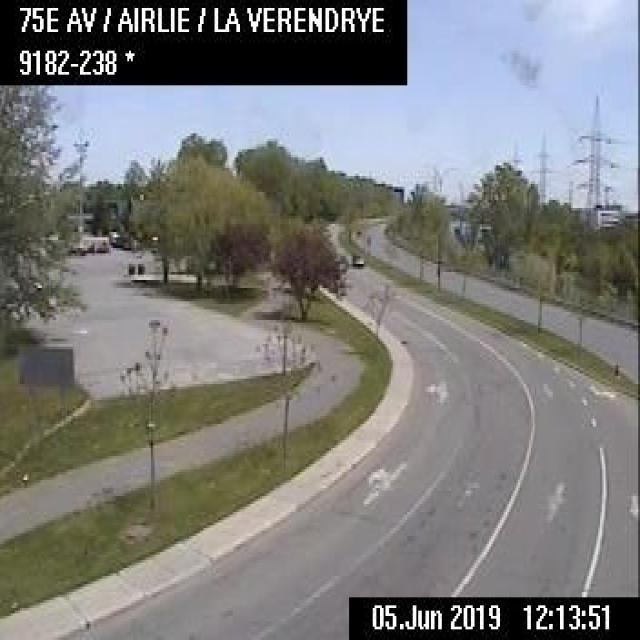vehicle: (347, 250, 364, 266)
